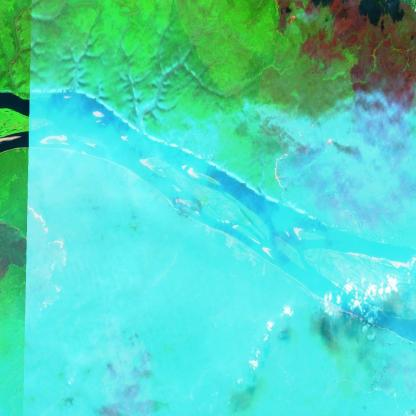fire: (25, 196, 71, 316), (271, 144, 293, 197), (322, 124, 338, 151)
